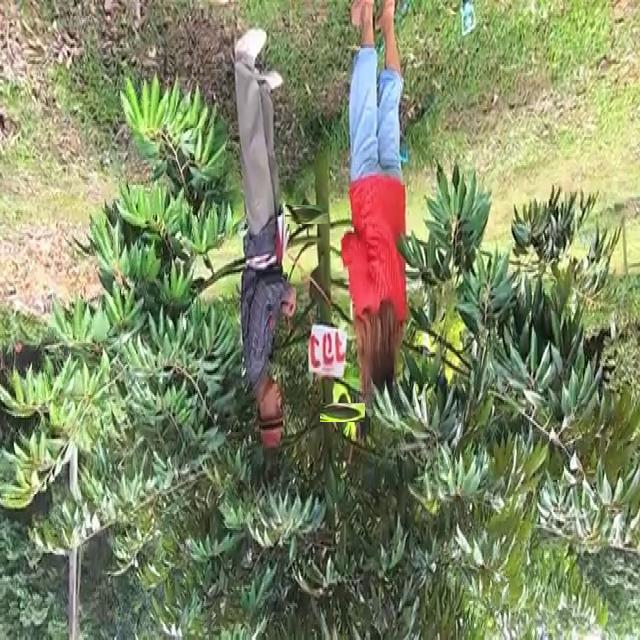durian: (326, 396, 359, 428), (291, 199, 322, 230)
